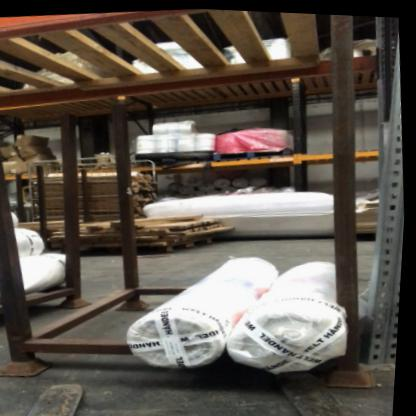vertical_damage: (366, 320, 402, 377)
